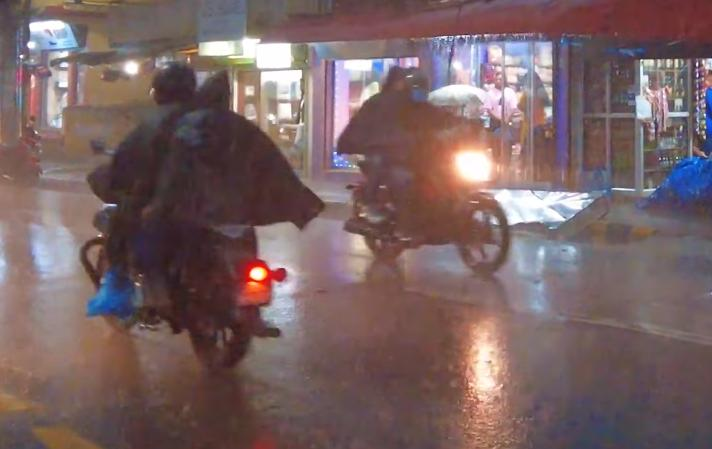bike: (74, 132, 295, 370), (336, 119, 520, 272)
